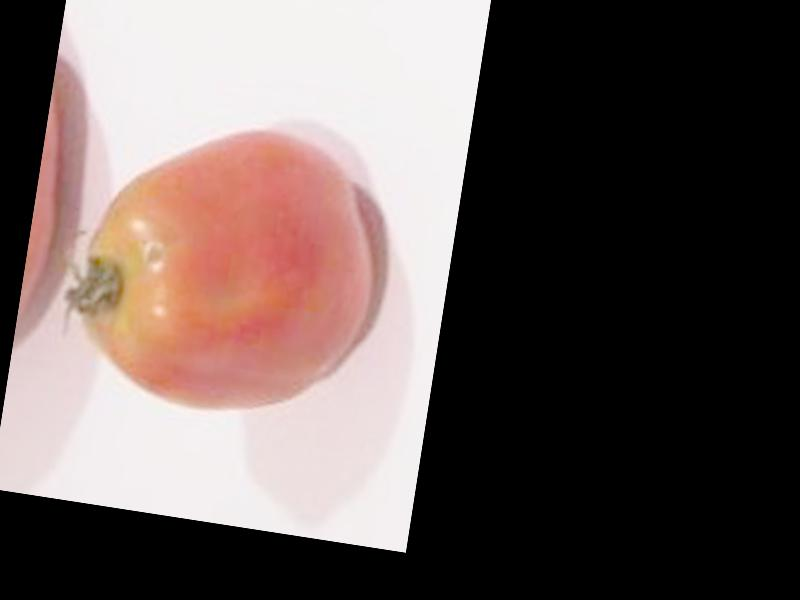Tomato: (63, 106, 386, 429)
